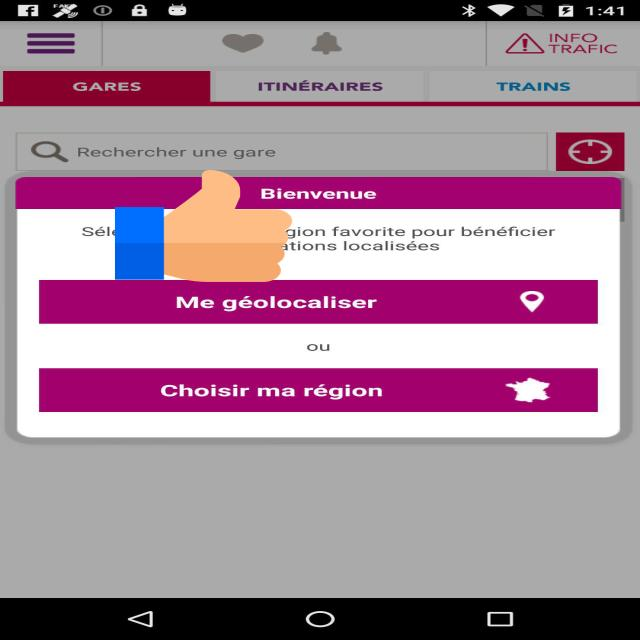privacy zuckering: (115, 167, 292, 285)
